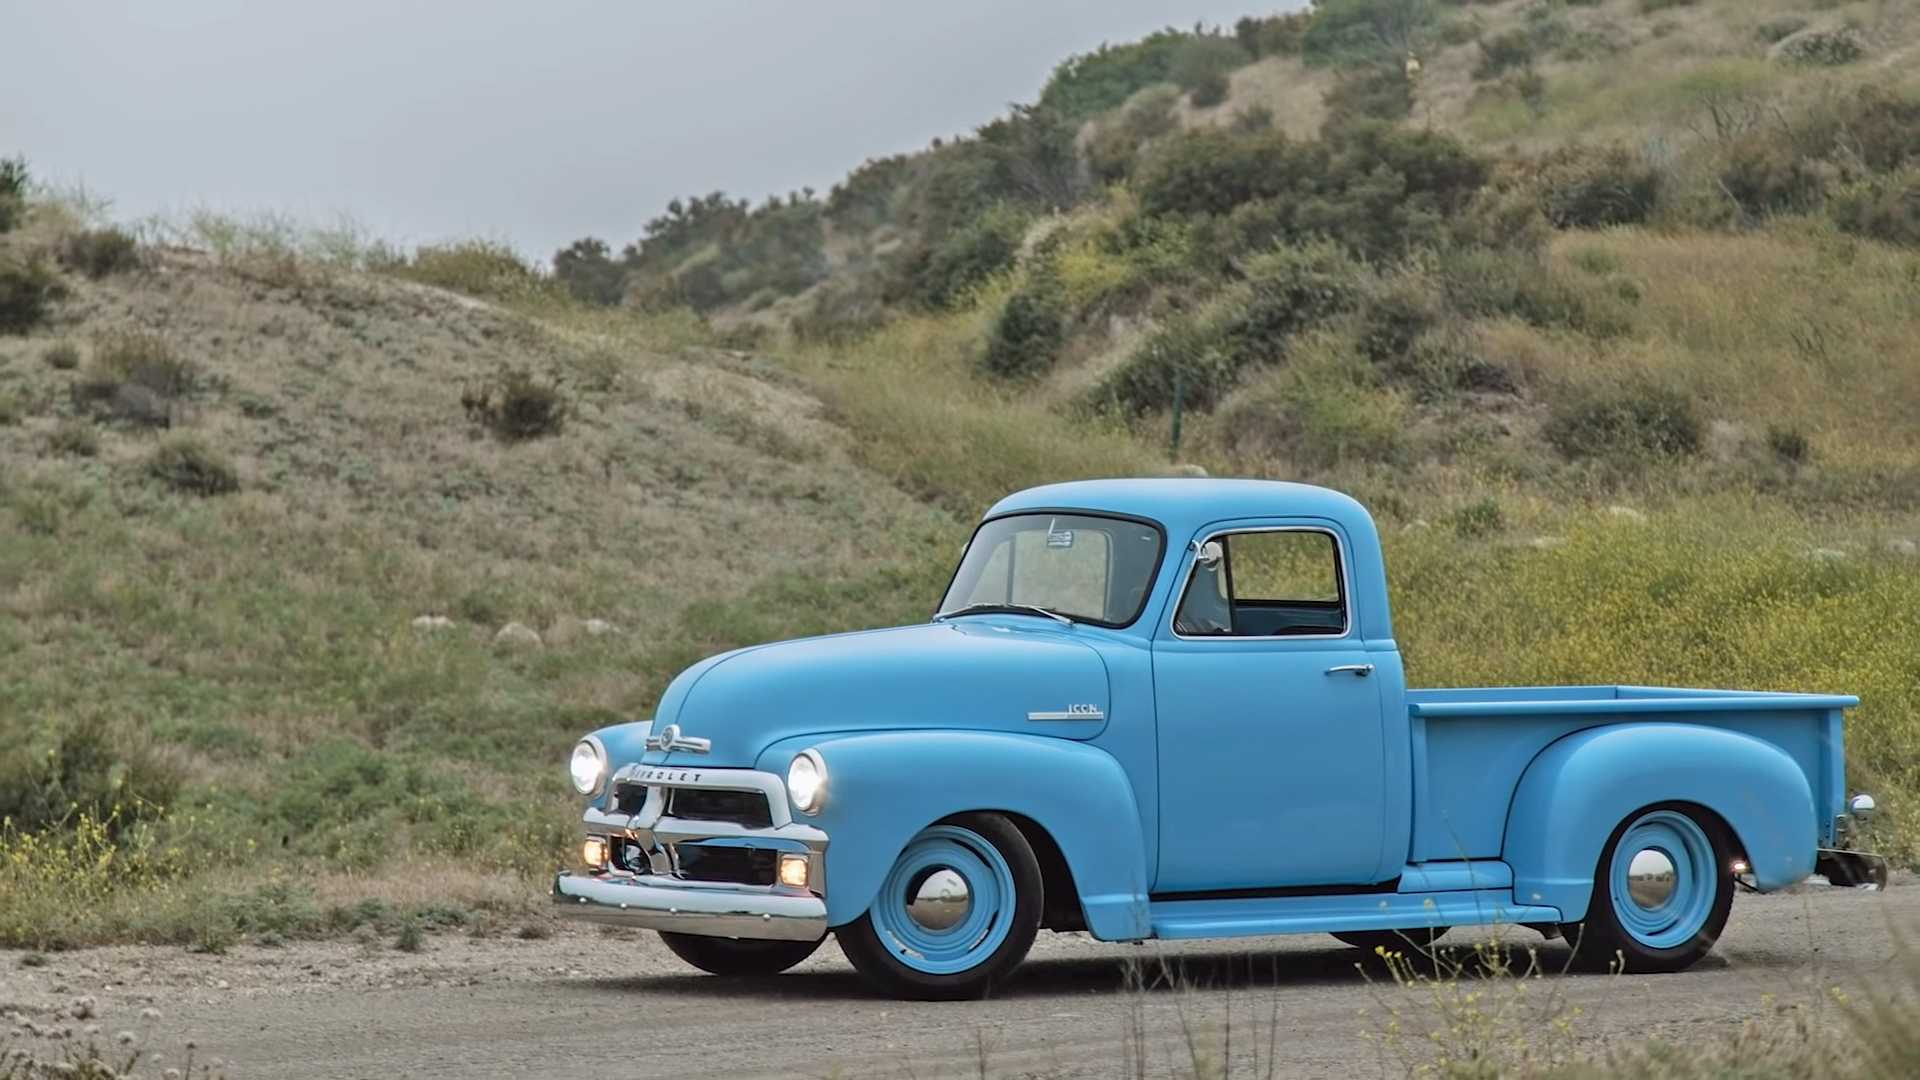Car: (539, 465, 1880, 1010)
